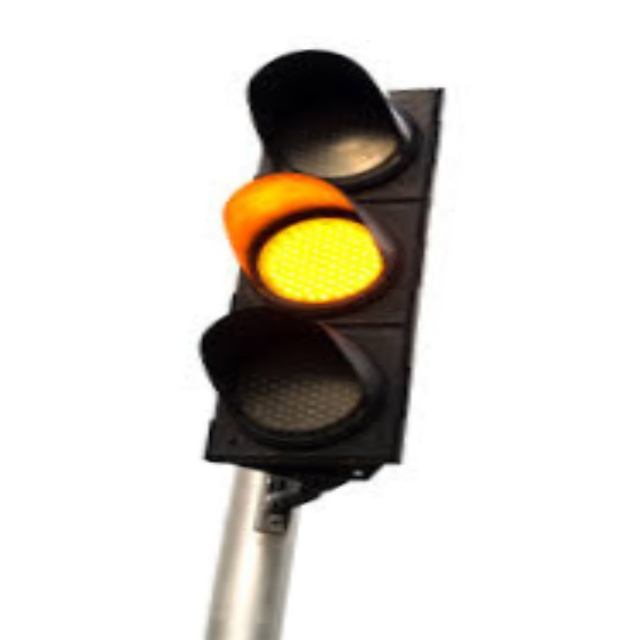yellow_light: (233, 199, 415, 313)
